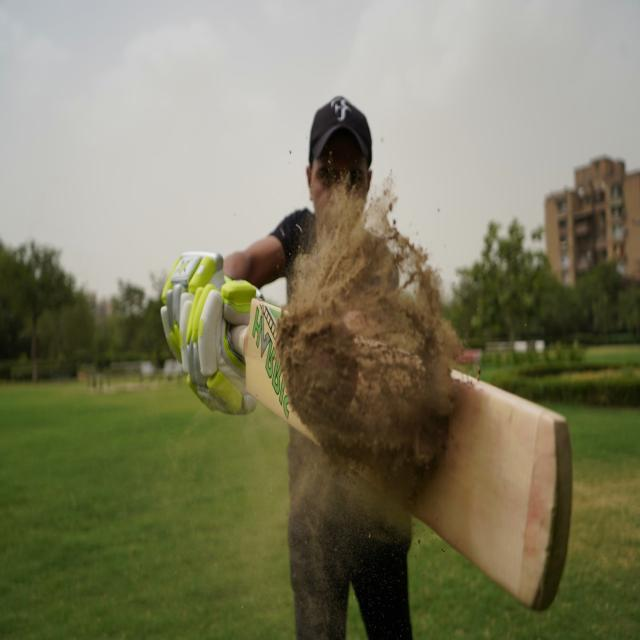adult: (222, 96, 412, 640)
